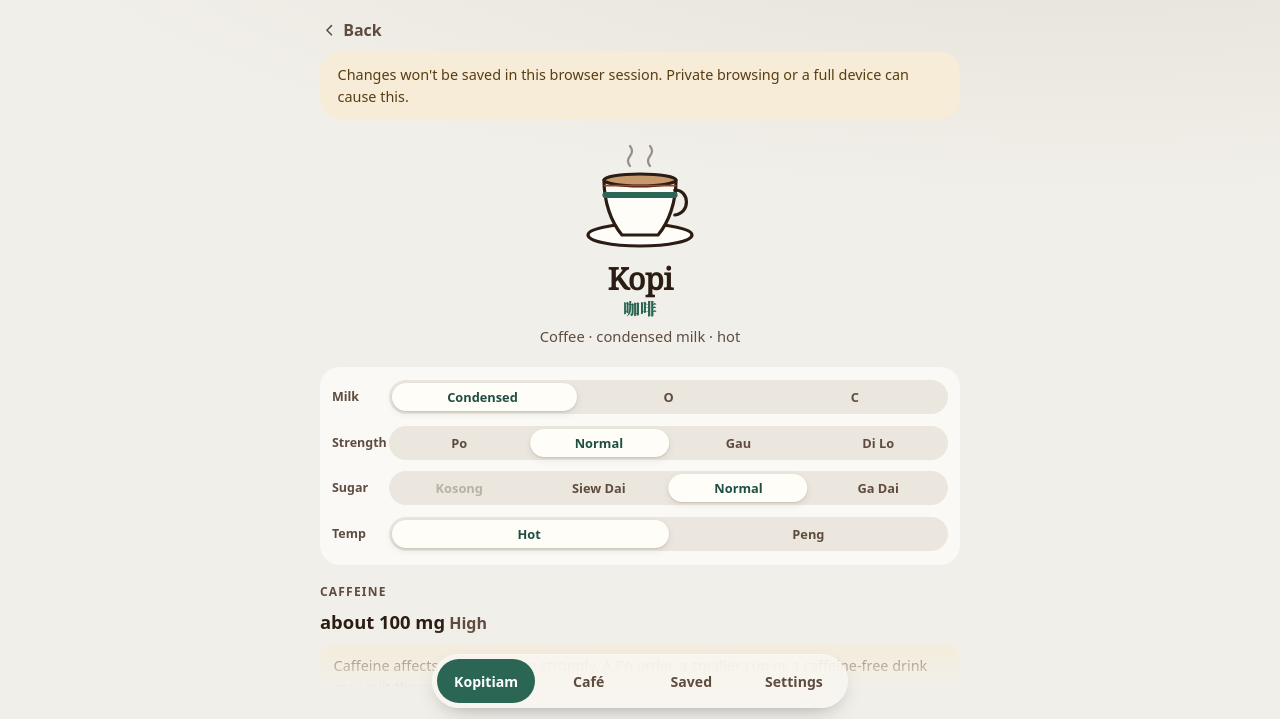
Test: a blocked option explains itself
This screenshot has width=1280, height=719.
Expected: the heading "Kopi" is shown, [607, 262, 672, 295]
Click the radio button labelled "Kosong" at (459, 488), box [436, 479, 483, 497]
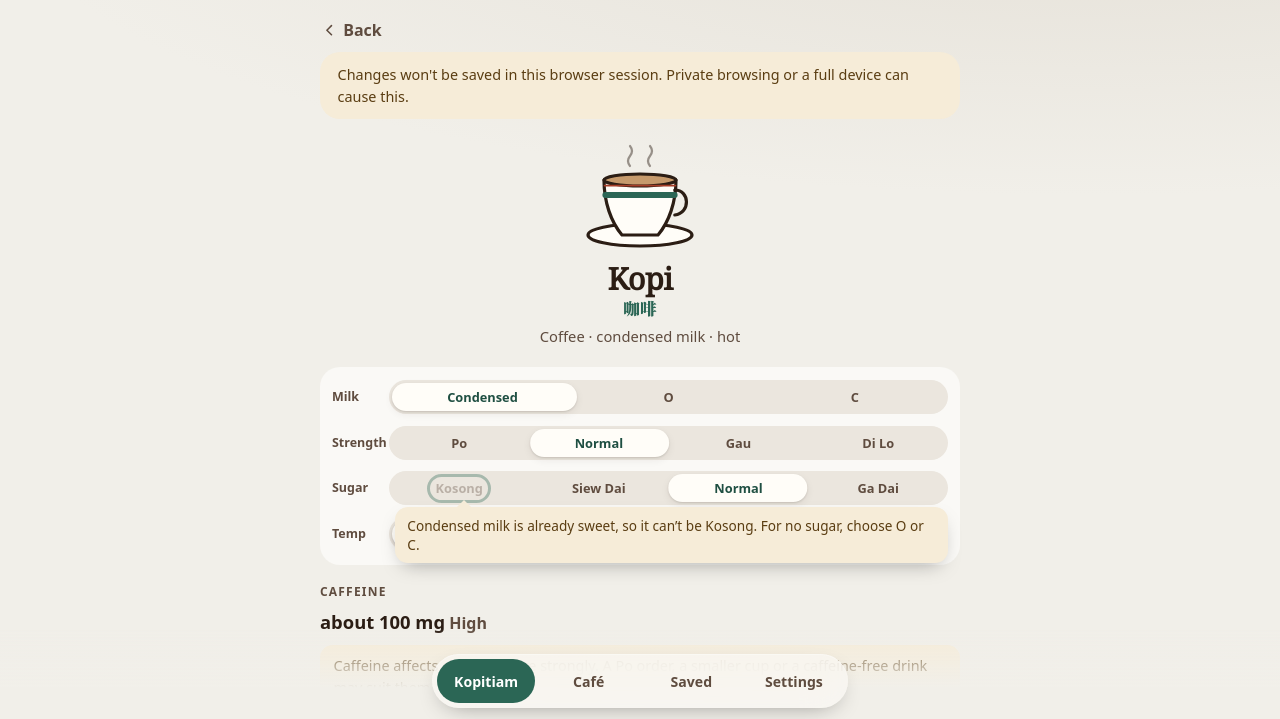
Expected: the radio button labelled "Normal" next to "Siew Dai" is checked, [714, 479, 763, 497]
Result: the 2nd message shows "Condensed milk is already sweet, so it can’t be Kosong. For no sugar, choose O or C." at [407, 516, 924, 554]
